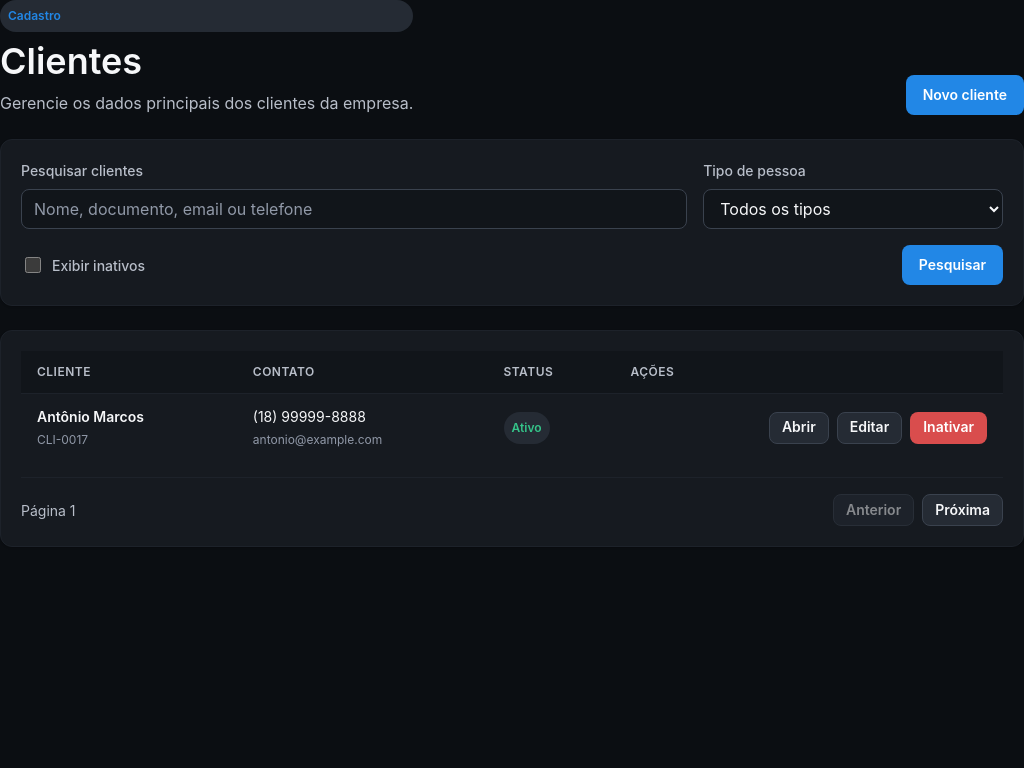
Test: CustomersRoute › creates a customer with normalized optional values
Expected: the button "Antônio Marcos" is shown, [37,406,144,427]
Click the button "Novo cliente".
click(965, 95)  # box [906,75,1023,115]
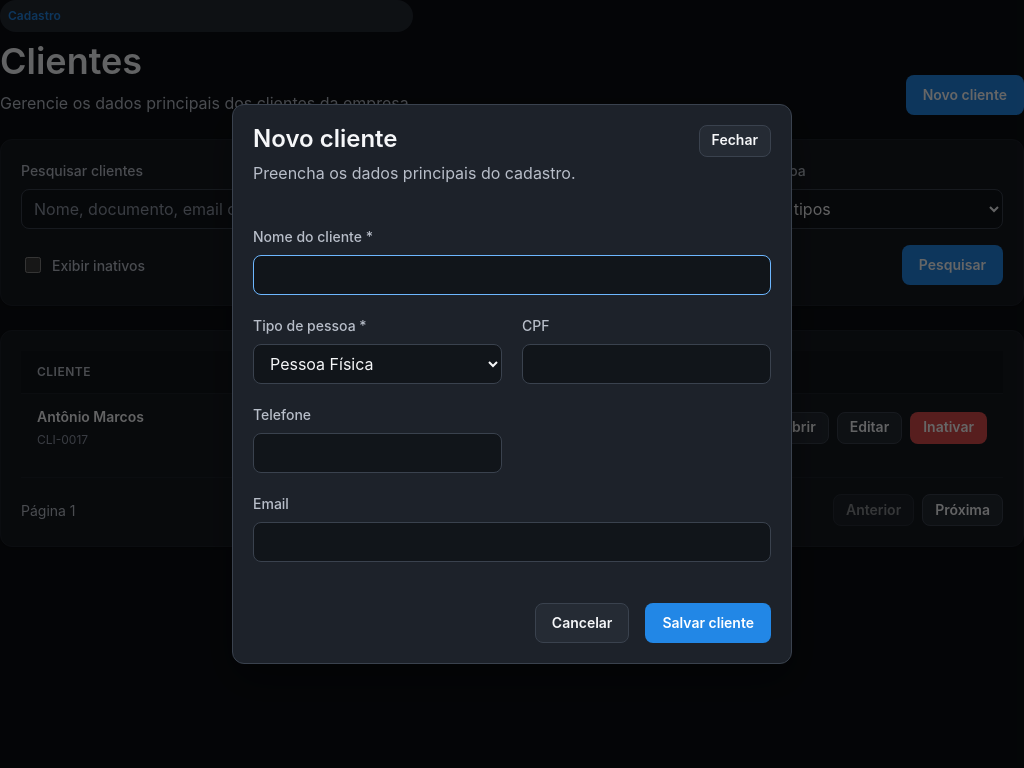
Type "  Cliente Novo  " into the field labelled "Nome do cliente *".
click(512, 275); type("  Cliente Novo  ")  # box [253,255,771,295]
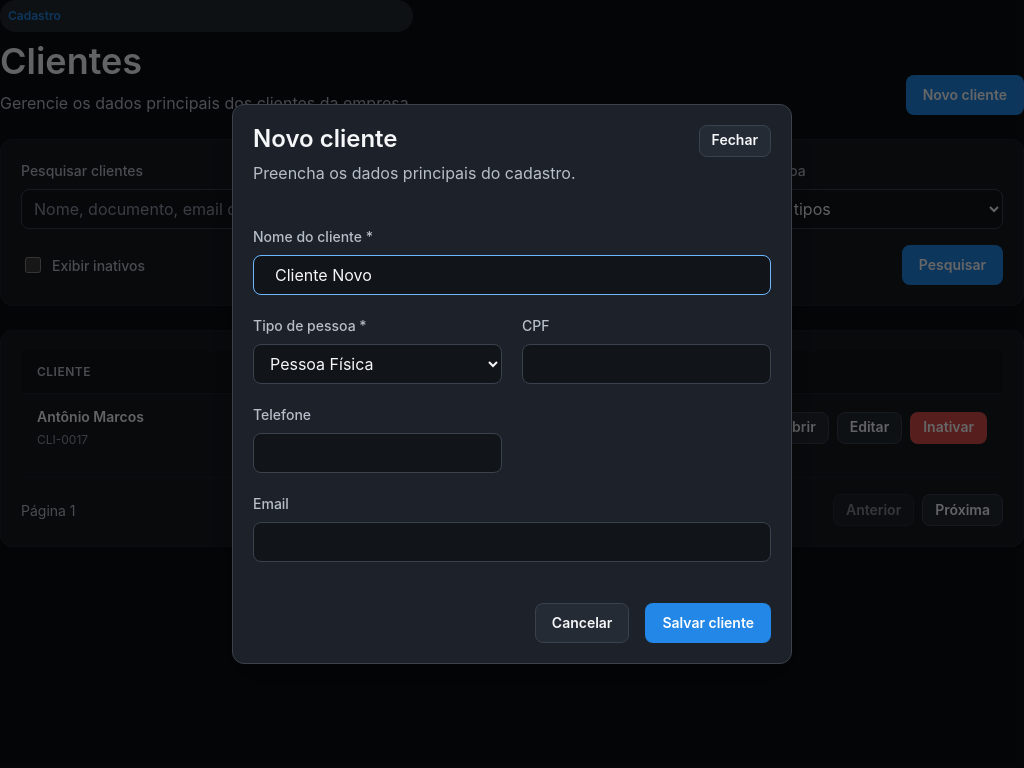
Click the button "Salvar cliente".
click(708, 623)  # box [645,603,771,643]
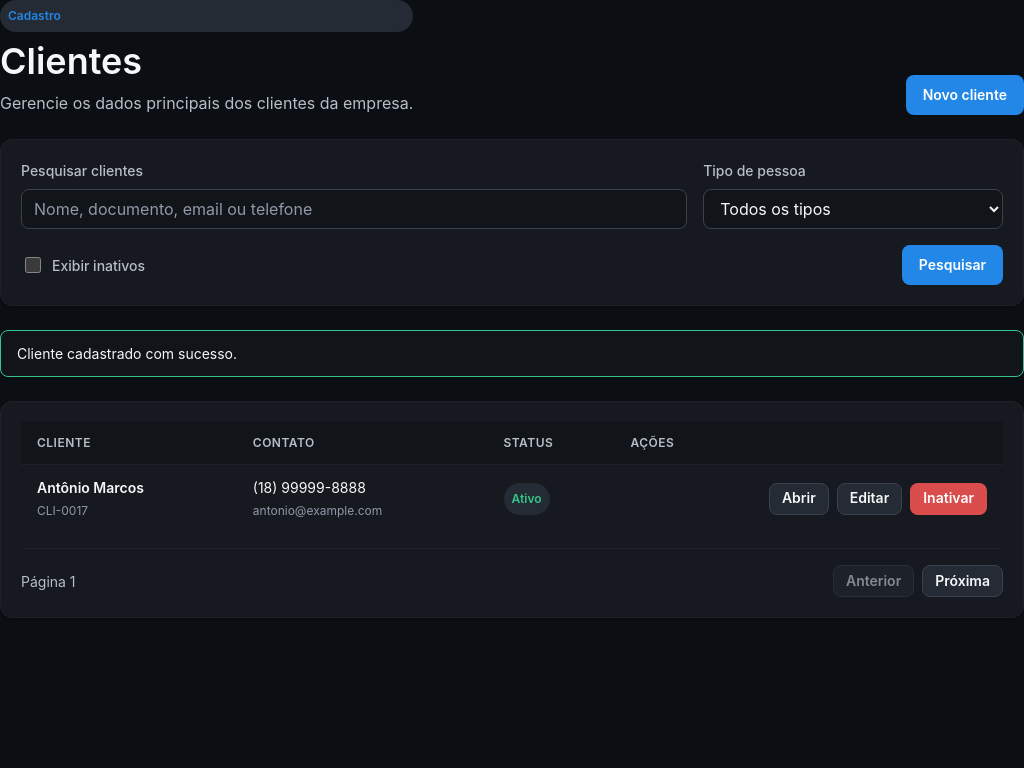
Expected: the text "Cliente cadastrado com sucesso." is shown, [0,330,1023,377]
